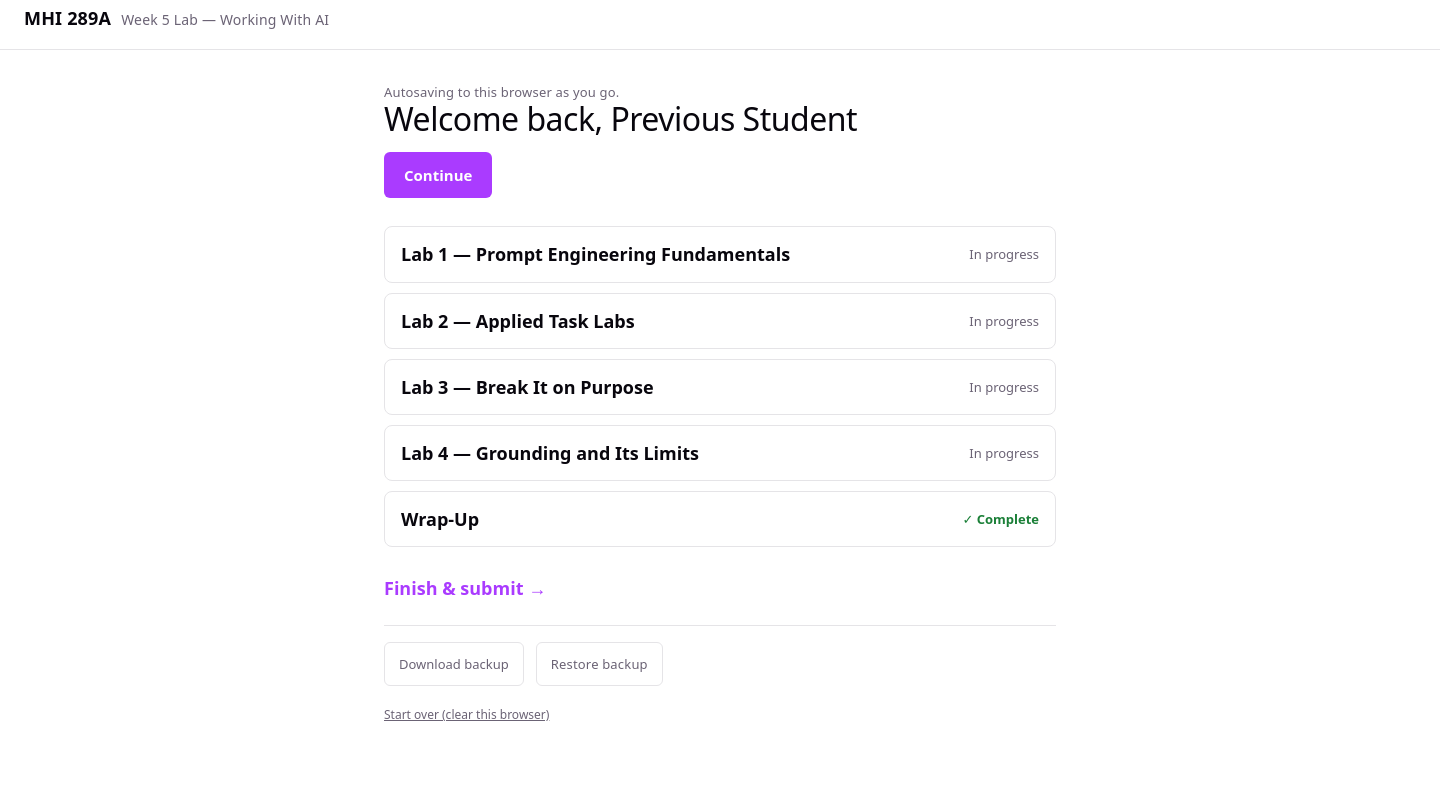
Test case: App — start over (shared computer) › clears the previous student's work and returns to a fresh landing page when confirmed
Expected: the heading "Welcome back, Previous Student" is shown, [384, 97, 857, 140]
What coordinates should you click on to do the following:
click the button "Start over (clear this browser)"
I would click on:
 (467, 715)
Its box is [384, 702, 549, 728].
(page scrolled)
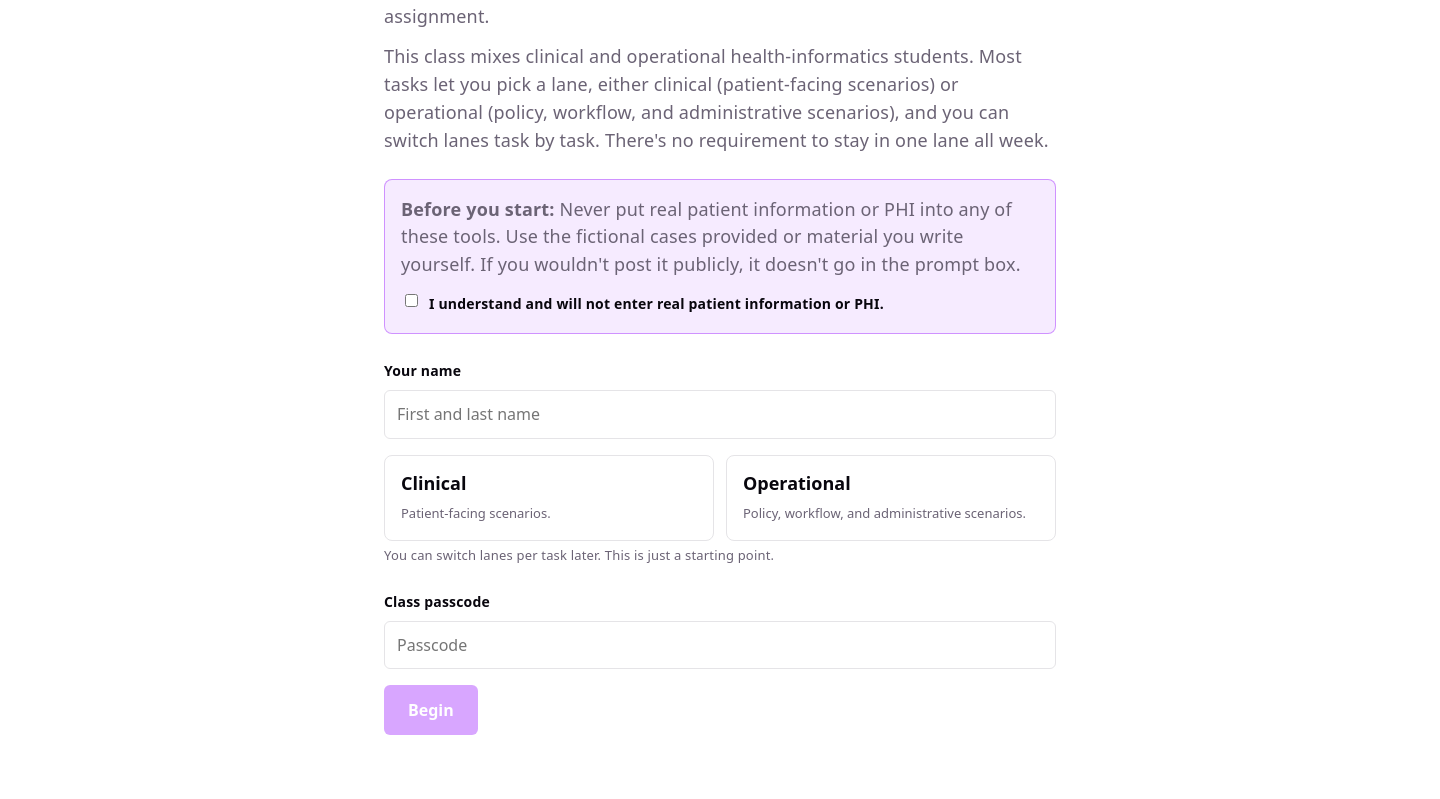
Expected: the button "Begin" is shown, [384, 685, 478, 735]
Expected: the heading "Previous Student" is gone
